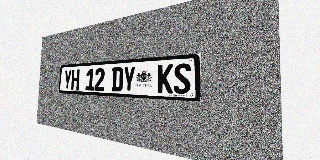1: (85, 68, 95, 91)
2: (94, 68, 105, 91)
D: (111, 67, 123, 92)
H: (71, 69, 80, 90)
K: (157, 64, 173, 94)
S: (173, 63, 191, 94)
Y: (123, 66, 136, 92), (64, 70, 72, 90)
